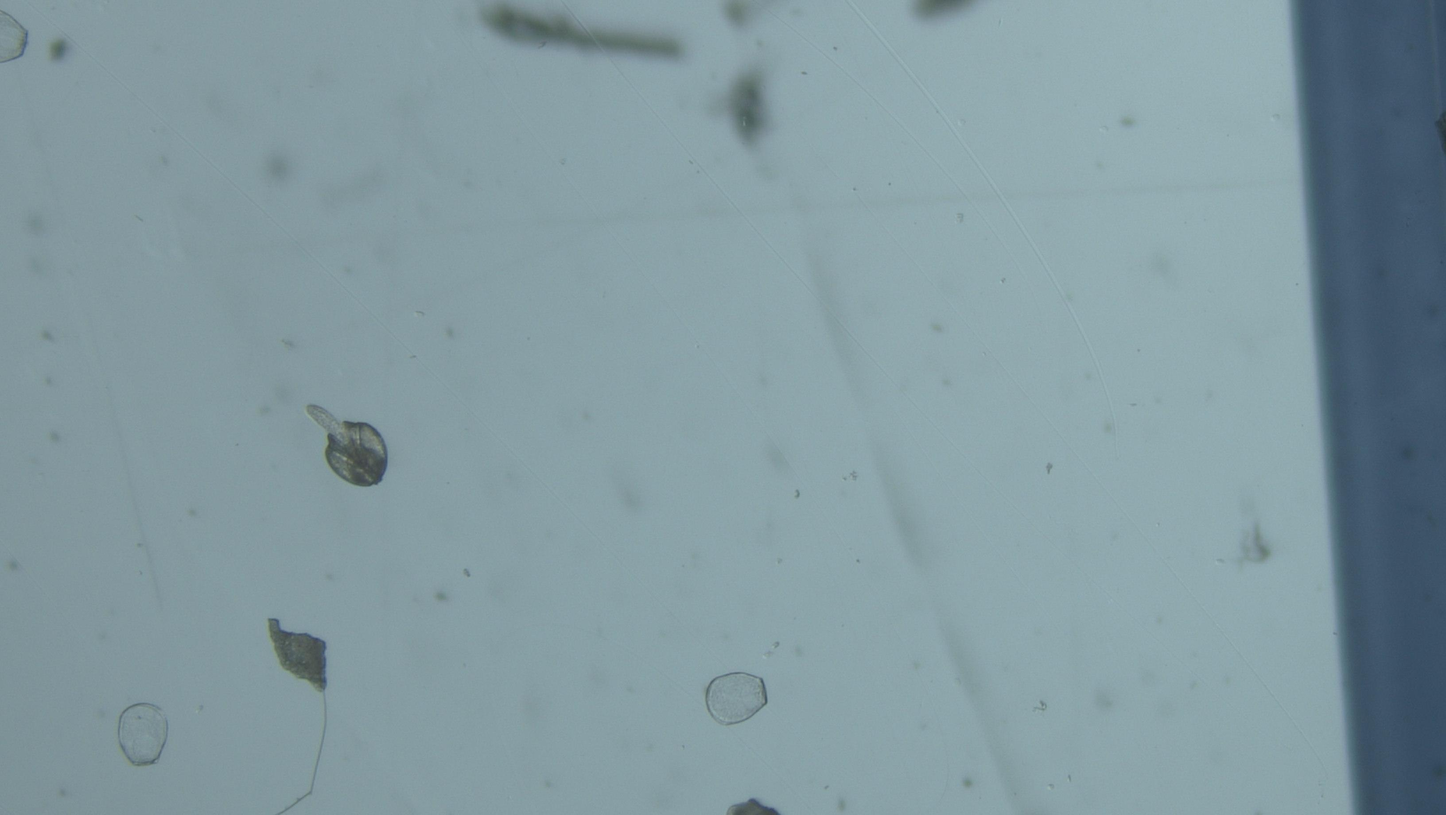dead: (706, 672, 768, 725), (118, 703, 168, 766)
live: (306, 405, 388, 487)
